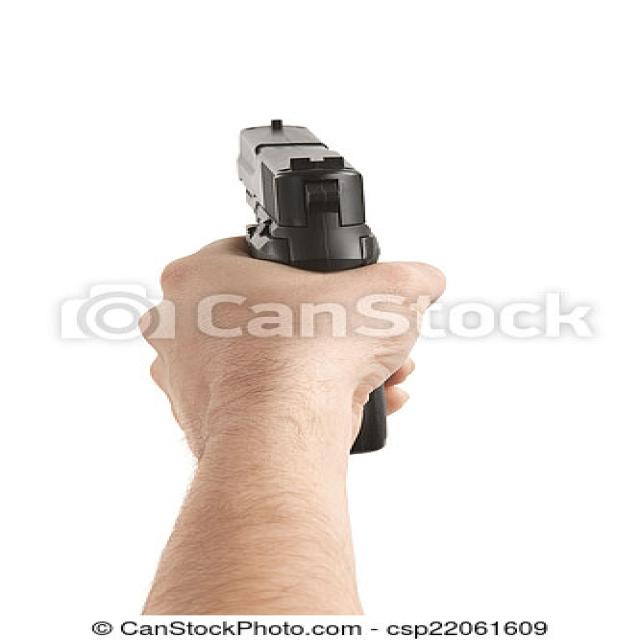HandGun: (236, 120, 382, 275)
